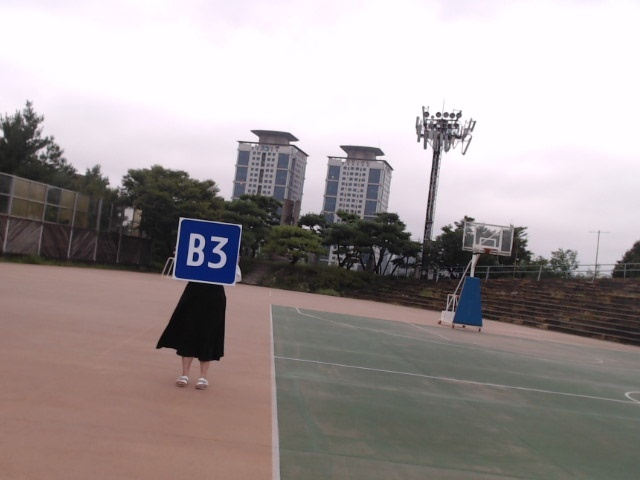delivery_b3: (175, 218, 241, 284)
